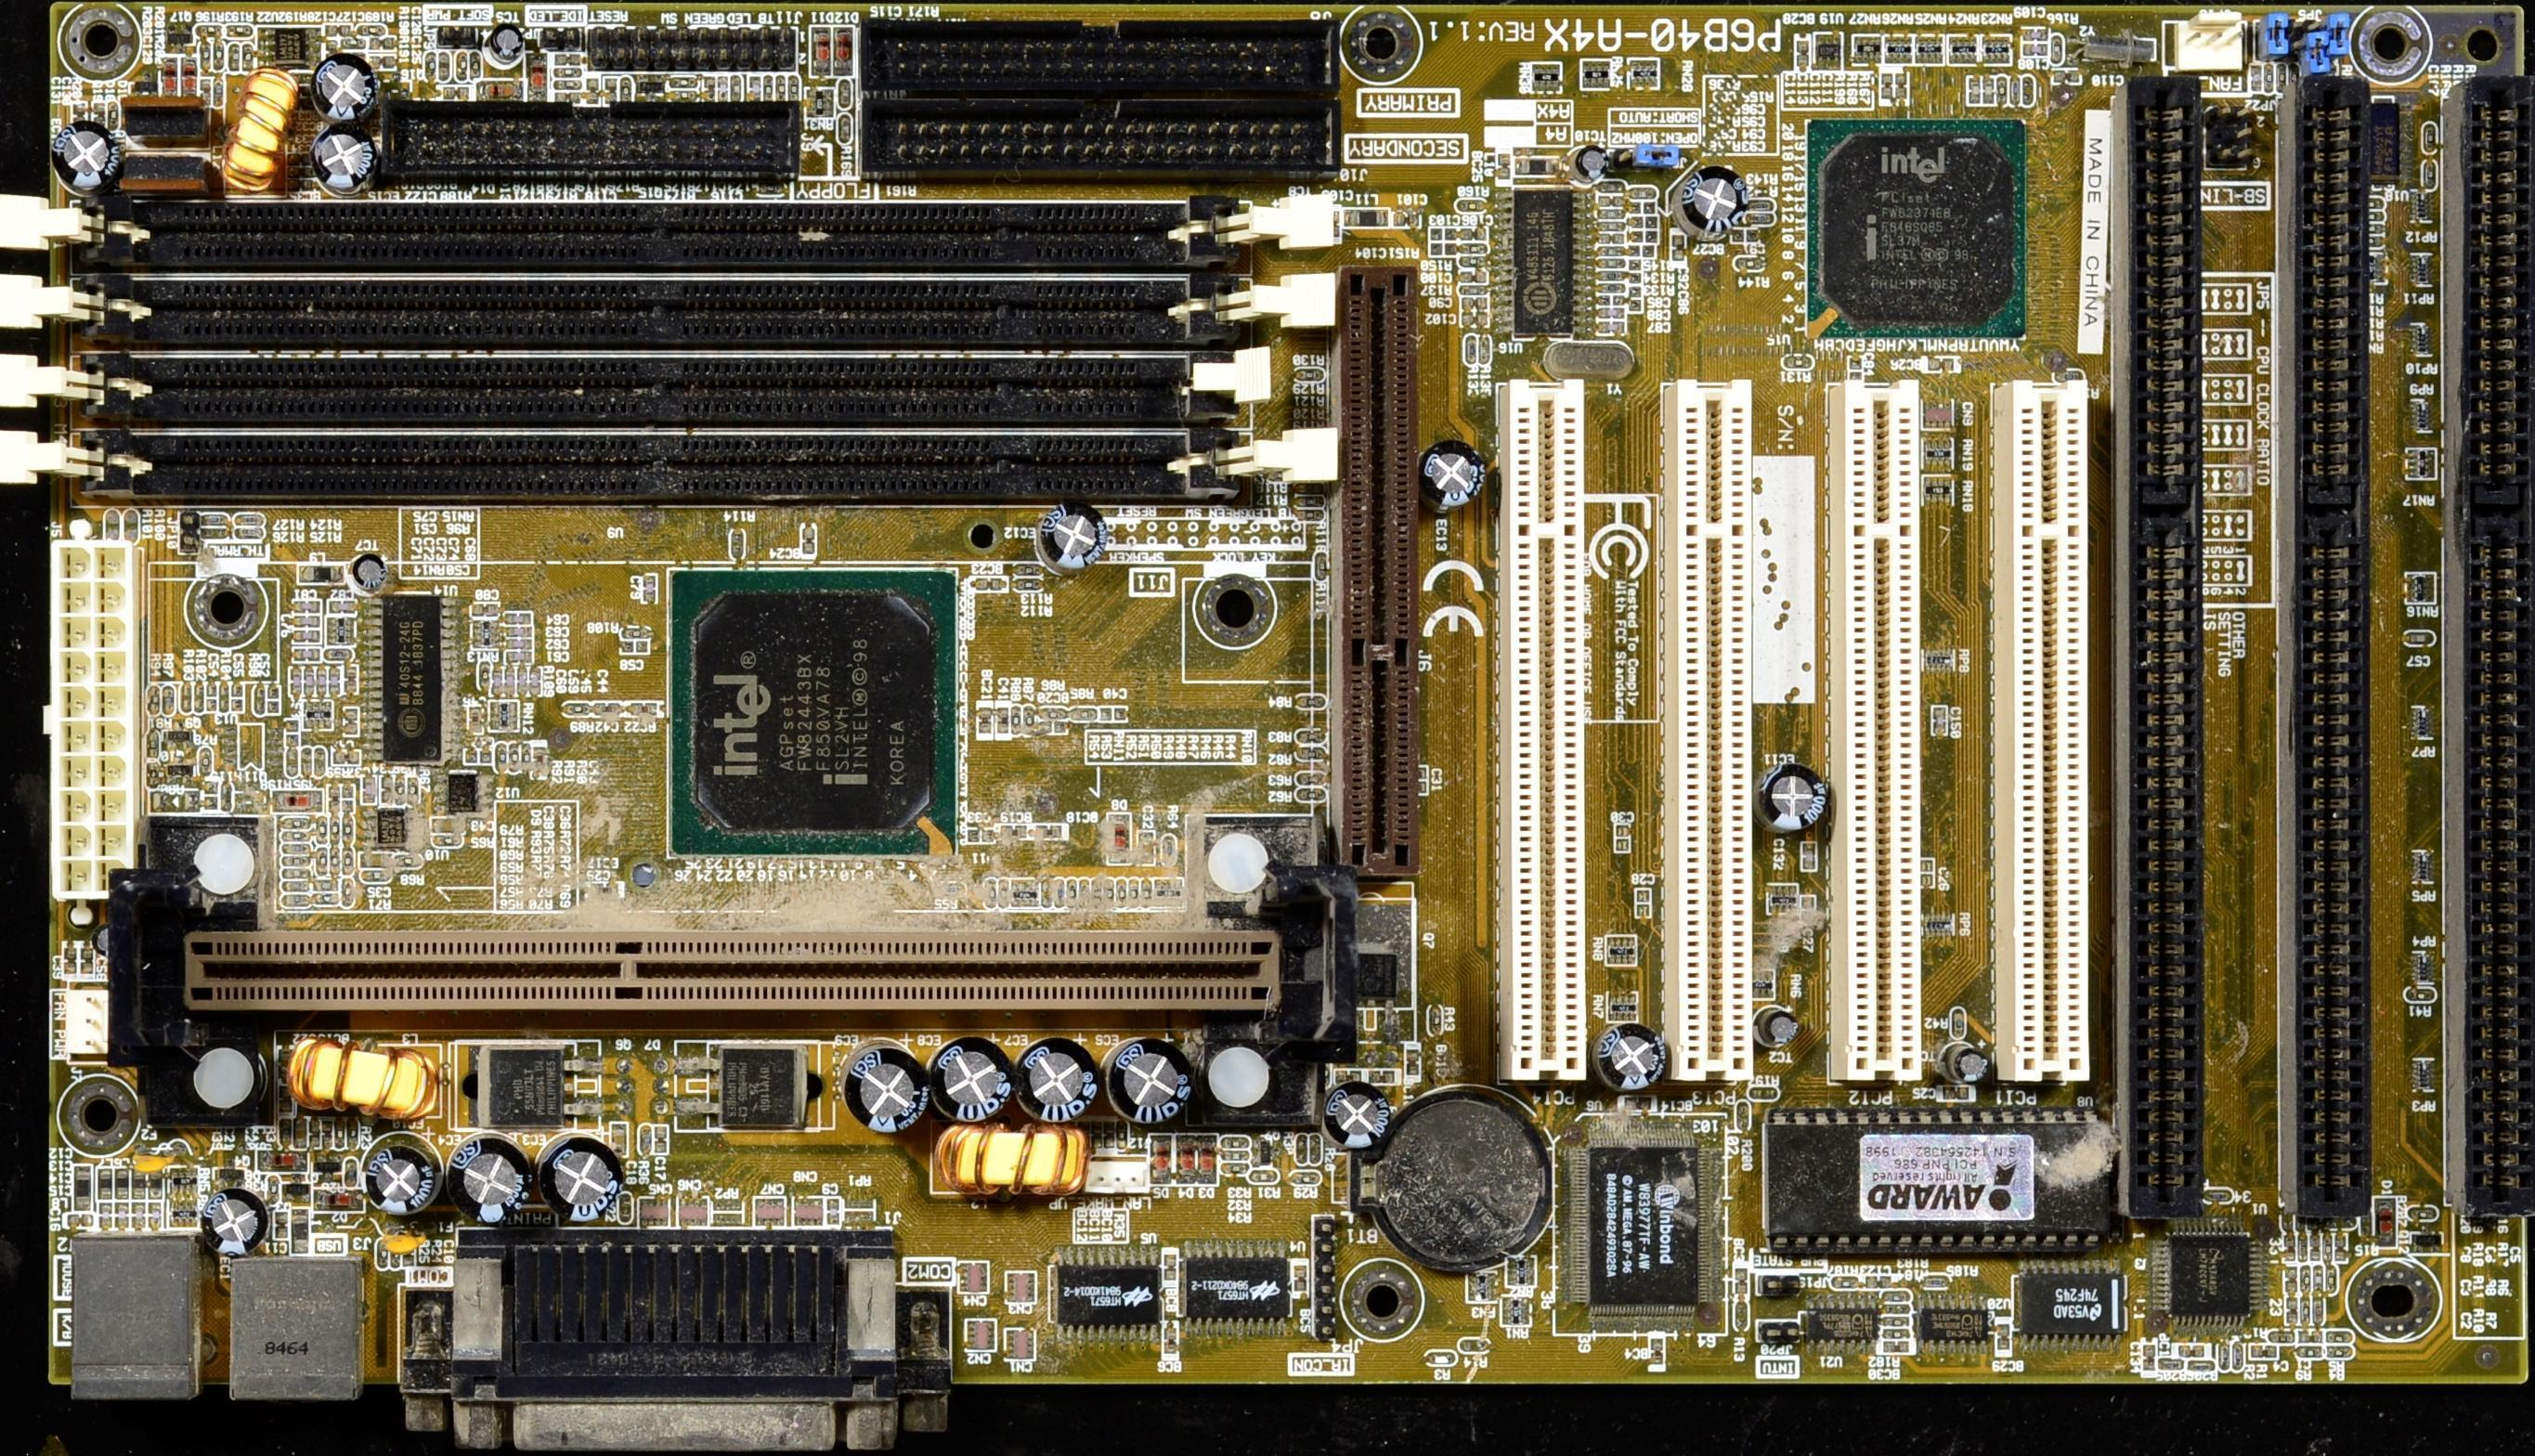Capacitor: (72, 1166, 93, 1211), (159, 61, 179, 97), (609, 1122, 627, 1162), (994, 700, 1011, 740), (2051, 67, 2085, 84), (1137, 830, 1155, 866), (180, 62, 196, 97), (91, 103, 106, 137), (1966, 75, 1982, 106), (654, 1123, 669, 1156), (617, 1193, 633, 1226), (1457, 313, 1490, 329), (432, 817, 464, 833), (97, 1168, 113, 1200), (825, 1196, 840, 1228), (273, 1208, 289, 1240), (2248, 1344, 2280, 1358), (505, 637, 534, 653), (1931, 706, 1947, 734), (99, 1201, 112, 1232), (1459, 297, 1492, 311), (626, 704, 658, 718), (359, 851, 391, 866), (1592, 322, 1628, 335), (148, 1169, 162, 1201), (117, 1202, 130, 1233), (1427, 242, 1455, 258), (2020, 27, 2047, 42), (644, 573, 657, 604), (293, 614, 321, 629), (591, 702, 619, 717), (1428, 227, 1457, 241), (1459, 270, 1489, 283), (2020, 43, 2048, 58), (268, 682, 281, 713), (1458, 243, 1490, 256), (148, 1202, 162, 1230), (2140, 1344, 2154, 1371), (1730, 227, 1759, 242), (294, 600, 321, 613), (1102, 707, 1129, 721), (116, 1169, 129, 1201), (402, 1240, 414, 1271), (1861, 1275, 1893, 1288), (322, 24, 353, 37), (1592, 306, 1625, 319), (439, 53, 450, 84), (232, 681, 244, 712), (1459, 227, 1486, 241), (1849, 356, 1863, 382), (505, 611, 531, 625), (361, 776, 375, 803), (200, 78, 212, 109), (72, 104, 85, 134), (505, 625, 534, 638), (133, 1203, 144, 1231), (329, 601, 357, 614), (2404, 630, 2432, 643), (293, 630, 321, 643), (1996, 77, 2008, 105), (134, 1168, 145, 1200), (1982, 75, 1993, 106), (620, 642, 649, 652), (207, 683, 217, 712), (214, 78, 224, 107), (506, 653, 534, 664), (1593, 295, 1627, 305), (471, 604, 502, 613)
Connector: (2276, 80, 2375, 1216), (2441, 79, 2535, 1216), (73, 422, 1240, 509), (2118, 75, 2203, 1222), (78, 202, 1232, 279), (177, 933, 1288, 1012), (73, 286, 1237, 358), (59, 360, 1260, 430), (1652, 381, 1757, 1082), (1983, 383, 2086, 1080), (1821, 381, 1919, 1080), (1496, 379, 1582, 1089), (1336, 265, 1418, 877), (858, 100, 1338, 183), (863, 19, 1339, 96), (384, 101, 798, 184)
IC: (665, 567, 961, 865), (1764, 1110, 2122, 1254), (1805, 121, 2025, 338), (1555, 1114, 1728, 1335), (366, 594, 456, 766), (1493, 188, 1588, 338), (2151, 1218, 2269, 1333), (1180, 1239, 1293, 1337), (2018, 1259, 2127, 1351), (1054, 1248, 1162, 1339), (1917, 1295, 1993, 1356), (1804, 1296, 1878, 1353), (255, 25, 321, 71), (435, 769, 494, 821), (363, 812, 417, 849), (1813, 32, 1843, 71), (2405, 188, 2435, 224), (2410, 324, 2437, 356), (2408, 253, 2433, 286)
Resistor: (152, 790, 200, 812), (1457, 1335, 1491, 1352), (144, 729, 160, 765), (1747, 1085, 1780, 1101), (1782, 356, 1814, 370), (198, 525, 232, 540), (344, 666, 358, 698), (1734, 256, 1763, 273), (1293, 728, 1323, 745), (1291, 1169, 1322, 1184), (328, 666, 343, 697), (344, 706, 358, 737), (2400, 990, 2436, 1003), (1294, 1133, 1307, 1166), (1424, 1351, 1459, 1366), (1463, 333, 1477, 368), (197, 39, 211, 73), (146, 684, 161, 719), (2322, 1265, 2338, 1294), (1920, 1275, 1950, 1290), (1626, 244, 1656, 259), (1879, 1288, 1912, 1302), (2294, 1345, 2326, 1358), (1743, 212, 1776, 227), (1022, 705, 1035, 738), (199, 745, 213, 779), (216, 783, 233, 808), (552, 78, 588, 90), (2408, 1205, 2437, 1220), (374, 1239, 388, 1270), (2267, 1330, 2295, 1345), (1628, 229, 1658, 243), (552, 53, 584, 66), (294, 648, 322, 663), (476, 663, 490, 695), (1298, 694, 1326, 708), (332, 751, 364, 764), (1163, 835, 1176, 866), (317, 847, 331, 877), (279, 1115, 292, 1149), (294, 1115, 306, 1149), (2359, 1201, 2372, 1235), (1879, 1325, 1913, 1338), (1624, 215, 1658, 227), (1593, 233, 1628, 245), (1592, 270, 1629, 282), (212, 39, 225, 73), (550, 67, 585, 78), (666, 77, 699, 89), (837, 80, 851, 110), (2334, 1232, 2348, 1262), (1829, 1276, 1860, 1290), (1735, 1303, 1748, 1332), (240, 44, 254, 73), (370, 55, 398, 68), (468, 52, 482, 82), (425, 52, 439, 82), (561, 701, 590, 716), (467, 706, 481, 734), (1295, 747, 1324, 761), (344, 816, 357, 847), (2009, 76, 2022, 107), (389, 1238, 401, 1271), (1878, 1303, 1912, 1316), (1593, 246, 1627, 258), (354, 22, 387, 35), (198, 513, 232, 526), (289, 665, 302, 699), (2282, 1236, 2297, 1264), (1040, 707, 1068, 721), (396, 855, 422, 869), (2325, 1331, 2355, 1344), (1456, 256, 1488, 268), (1592, 282, 1625, 294), (193, 25, 224, 37), (305, 666, 316, 701), (163, 684, 175, 715), (494, 743, 507, 775), (327, 785, 340, 816), (282, 831, 313, 842), (280, 845, 312, 857), (618, 77, 633, 101), (761, 77, 776, 101), (666, 91, 699, 101), (639, 1124, 650, 1161), (838, 117, 851, 143), (2051, 36, 2064, 63), (182, 682, 193, 716), (253, 683, 265, 718), (431, 836, 464, 846), (348, 1118, 360, 1148), (1309, 1135, 1322, 1165), (2310, 1234, 2323, 1264), (2284, 1267, 2297, 1295), (2325, 1346, 2354, 1358), (1594, 207, 1625, 219), (619, 626, 650, 638), (323, 648, 353, 660), (455, 52, 467, 82), (1297, 789, 1326, 801), (279, 894, 310, 906), (1624, 201, 1657, 213), (1592, 257, 1627, 268), (1480, 335, 1490, 367), (227, 41, 239, 72), (318, 667, 330, 700), (279, 855, 313, 866), (361, 870, 393, 881), (1251, 1172, 1279, 1184), (2296, 1234, 2308, 1263), (2296, 1331, 2325, 1344), (1597, 197, 1624, 209), (1594, 220, 1623, 231), (225, 25, 252, 37), (369, 39, 397, 50), (731, 531, 744, 560), (481, 735, 492, 763), (1296, 773, 1325, 786), (279, 817, 308, 828), (786, 76, 799, 100), (310, 1116, 320, 1148), (1627, 188, 1657, 199), (1458, 285, 1488, 296), (1015, 580, 1046, 591), (193, 682, 203, 712), (1013, 706, 1023, 736), (521, 744, 531, 774), (409, 777, 419, 809), (281, 869, 313, 880), (1222, 1137, 1249, 1150), (1878, 1316, 1915, 1324), (1072, 708, 1099, 719), (775, 76, 786, 102), (1219, 1163, 1249, 1174), (2322, 1233, 2333, 1263), (234, 528, 264, 539), (218, 682, 228, 713), (287, 717, 298, 747), (343, 785, 354, 814), (344, 878, 354, 907), (2021, 76, 2033, 106), (604, 76, 616, 101), (730, 77, 742, 100), (316, 892, 339, 903), (2299, 1266, 2311, 1293), (2312, 1266, 2322, 1293), (2299, 1297, 2311, 1326), (1016, 565, 1044, 577), (288, 748, 297, 776), (343, 848, 353, 877), (335, 1117, 344, 1149), (748, 77, 761, 99), (321, 1118, 331, 1150), (2312, 1298, 2323, 1324), (1595, 183, 1626, 191), (467, 737, 477, 763), (509, 744, 517, 774), (303, 746, 312, 776), (315, 748, 326, 775), (397, 773, 405, 805), (383, 774, 391, 807), (330, 818, 340, 845), (1745, 200, 1773, 210), (317, 816, 326, 844), (281, 882, 310, 892), (343, 39, 366, 49), (315, 881, 338, 891), (1222, 1151, 1249, 1161), (2285, 1298, 2295, 1323), (237, 518, 266, 526), (717, 77, 726, 99), (332, 850, 340, 878)
Transistor: (453, 1044, 601, 1128), (214, 1168, 249, 1182)
